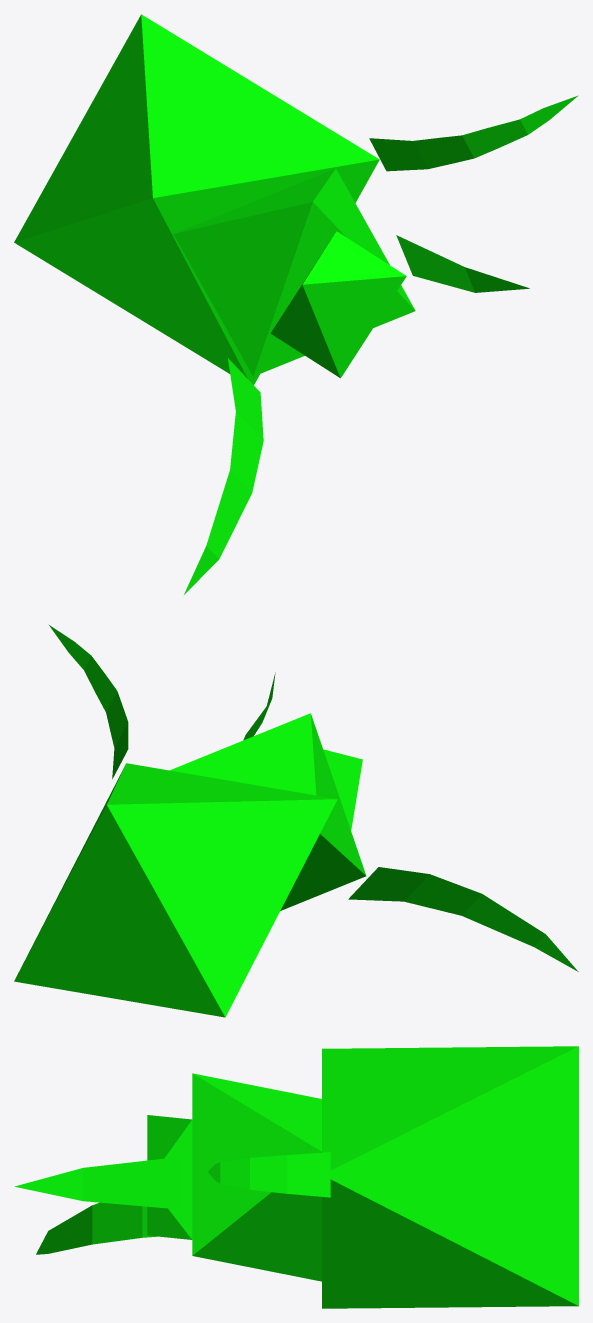
Rendered from usm_22_2.5D_2018-07-10_5.obj.
3 views of the same model, one above another, from view 1: azimuth 30°, elevation 25°; view 2: azimuth 150°, elevation 25°; view 3: azimuth 270°, elevation 25° (orthographic). The views are drawn at different scales.
Visible parts, largest first — view 1: vid_3, vid_5, vid_7, vid_6, vid_4, vid_8; view 2: vid_3, vid_5, vid_6, vid_4, vid_7; view 3: vid_3, vid_5, vid_8, vid_4, vid_7, vid_6.
Part boxes in pixels (box(x1,y1,x2,y2)): vid_3: box(14, 14, 379, 384); vid_5: box(173, 168, 415, 376); vid_7: box(270, 231, 406, 378); vid_6: box(184, 358, 263, 594); vid_4: box(369, 95, 578, 171); vid_8: box(396, 235, 529, 292); vid_3: box(14, 763, 337, 1017); vid_5: box(169, 713, 366, 910); vid_6: box(348, 867, 578, 971); vid_4: box(48, 624, 128, 779); vid_7: box(323, 749, 362, 830); vid_3: box(322, 1046, 578, 1308); vid_5: box(192, 1073, 321, 1281); vid_8: box(15, 1157, 179, 1209); vid_4: box(208, 1152, 330, 1197); vid_7: box(147, 1115, 192, 1239); vid_6: box(36, 1202, 157, 1254).
Size of the model in its own units: 5.76 by 3.7 by 5.9.
